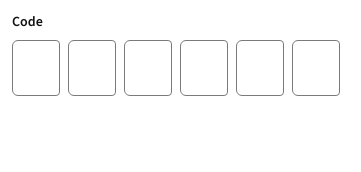
it: OTPInput › fills every cell from a pasted code
Type "987654" into the field named "Digit 1 of 6".
click(36, 68); type("987654")  # box x1=12 y1=40 x2=60 y2=96
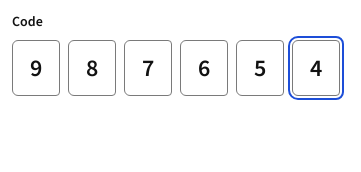
Check: the field named "Digit 4 of 6" holds "6", box x1=180 y1=40 x2=228 y2=96
